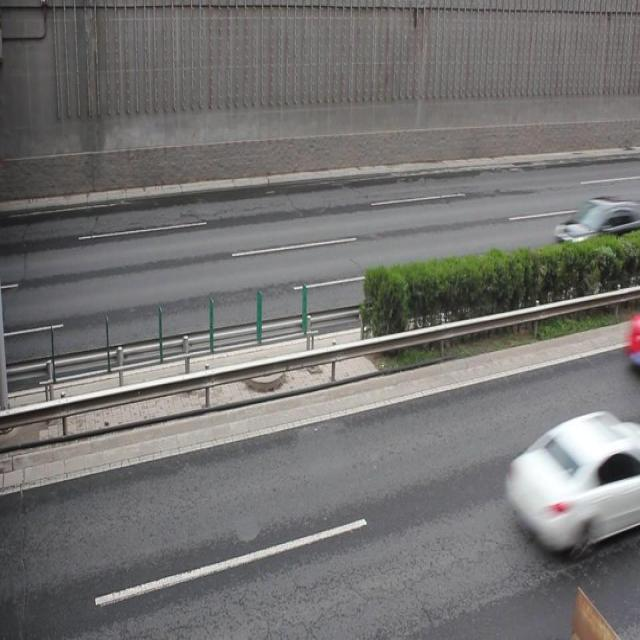car: (504, 410, 640, 551), (554, 196, 640, 266)
